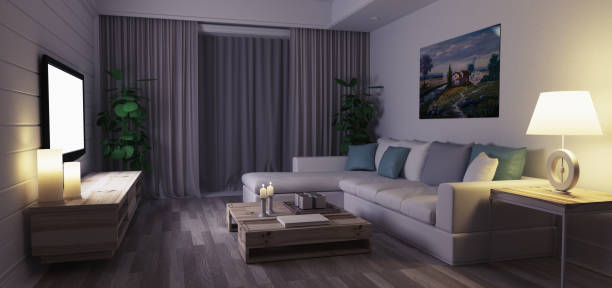TV: (38, 55, 87, 163)
TV stand: (24, 166, 144, 266)
large plant: (95, 64, 156, 166), (331, 77, 384, 143)
side table: (488, 185, 612, 288)
sofa: (240, 135, 559, 267)
table: (224, 199, 375, 264)
table lamp: (526, 88, 598, 191)
wall art: (417, 22, 502, 119)
